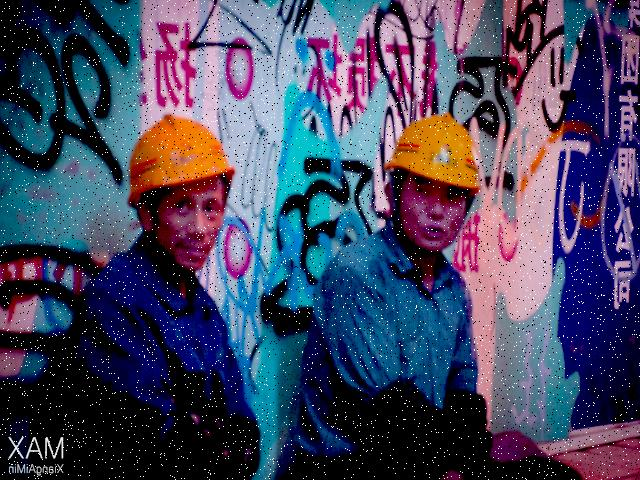Helmet: (125, 108, 240, 214), (381, 107, 486, 198)
